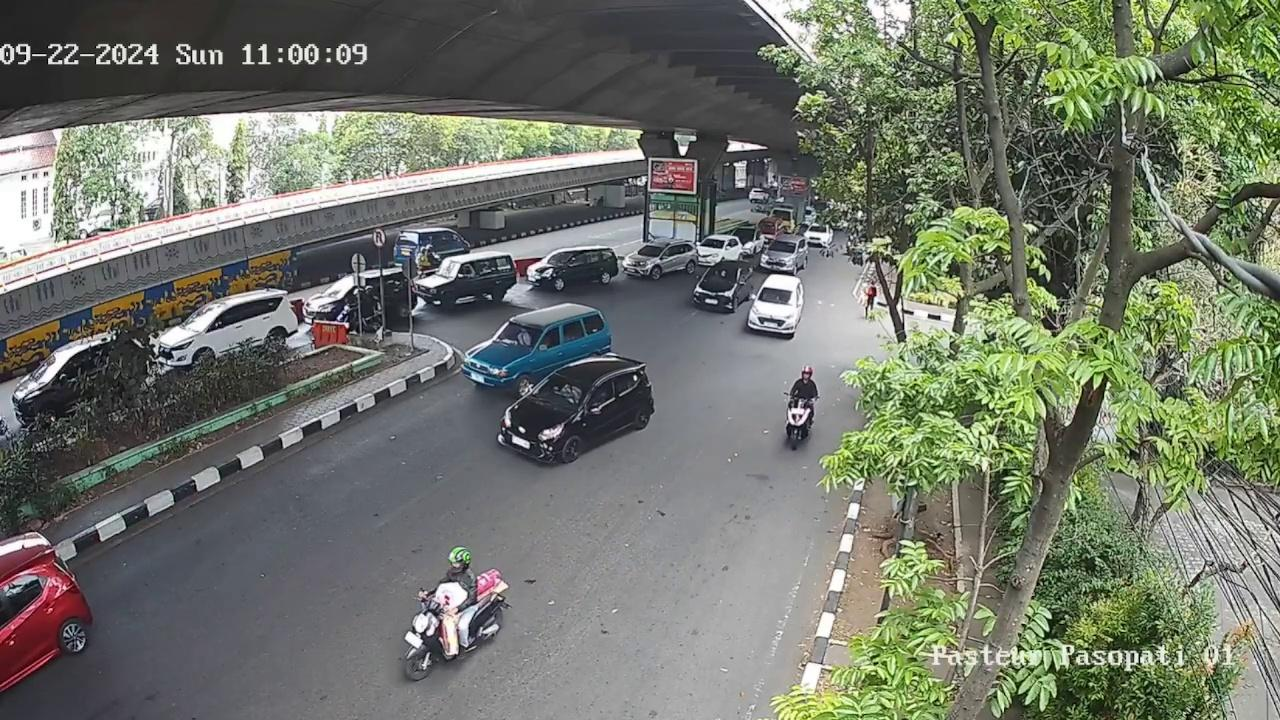pakai: (558, 384, 581, 403), (511, 326, 531, 344)
windshield: (531, 378, 593, 408), (493, 320, 540, 350), (758, 286, 797, 305), (707, 268, 738, 282), (769, 240, 798, 252)
